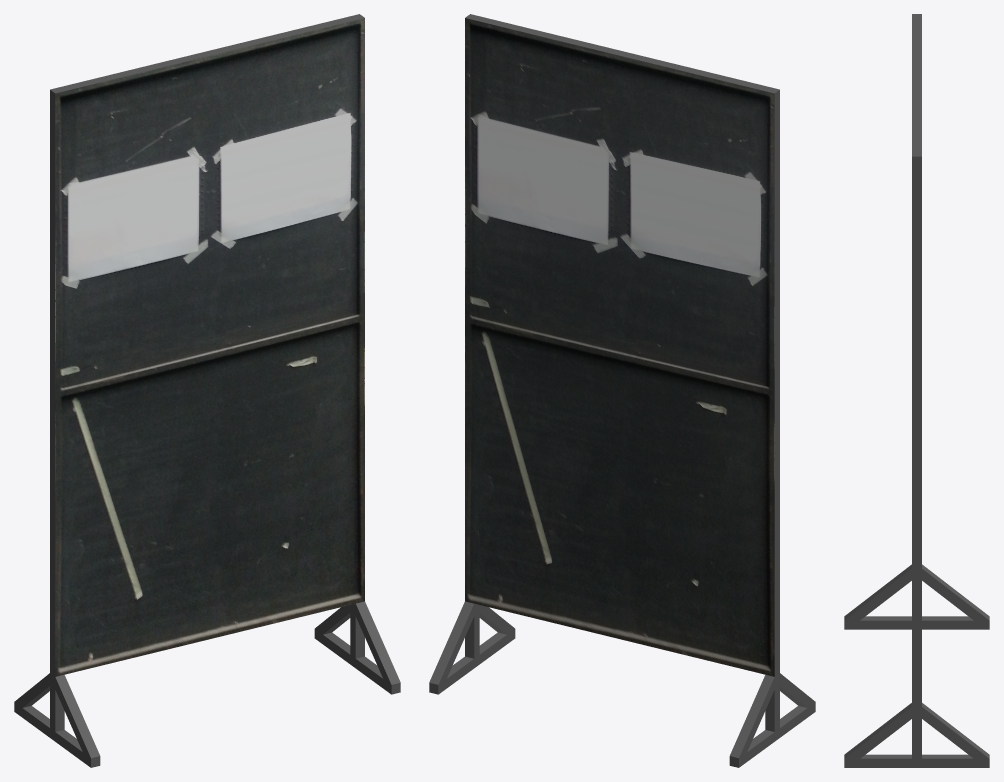
The model's file is metal_panel.dae.
3 views of the same model, side by side, from view 1: azimuth 30°, elevation 25°; view 2: azimuth 150°, elevation 25°; view 3: azimuth 270°, elevation 25° (orthographic). The views are drawn at different scales.
Visible parts, largest first — view 1: instance_0 (×2); view 2: instance_0 (×2); view 3: instance_0.
Part boxes in pixels (x1,y1,x2,y2): instance_0 (×2): (14, 14, 400, 767); instance_0 (×2): (429, 14, 815, 767); instance_0: (844, 14, 989, 767).
Size of the model in its own units: 39.37 by 16.93 by 78.74.
Materials: 3 (1 with a texture image).
